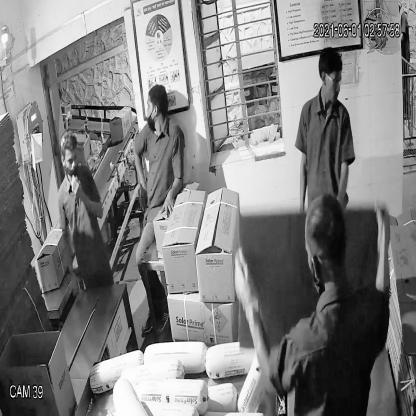goggles: (318, 69, 345, 94)
no_goggles: (57, 149, 83, 169)
